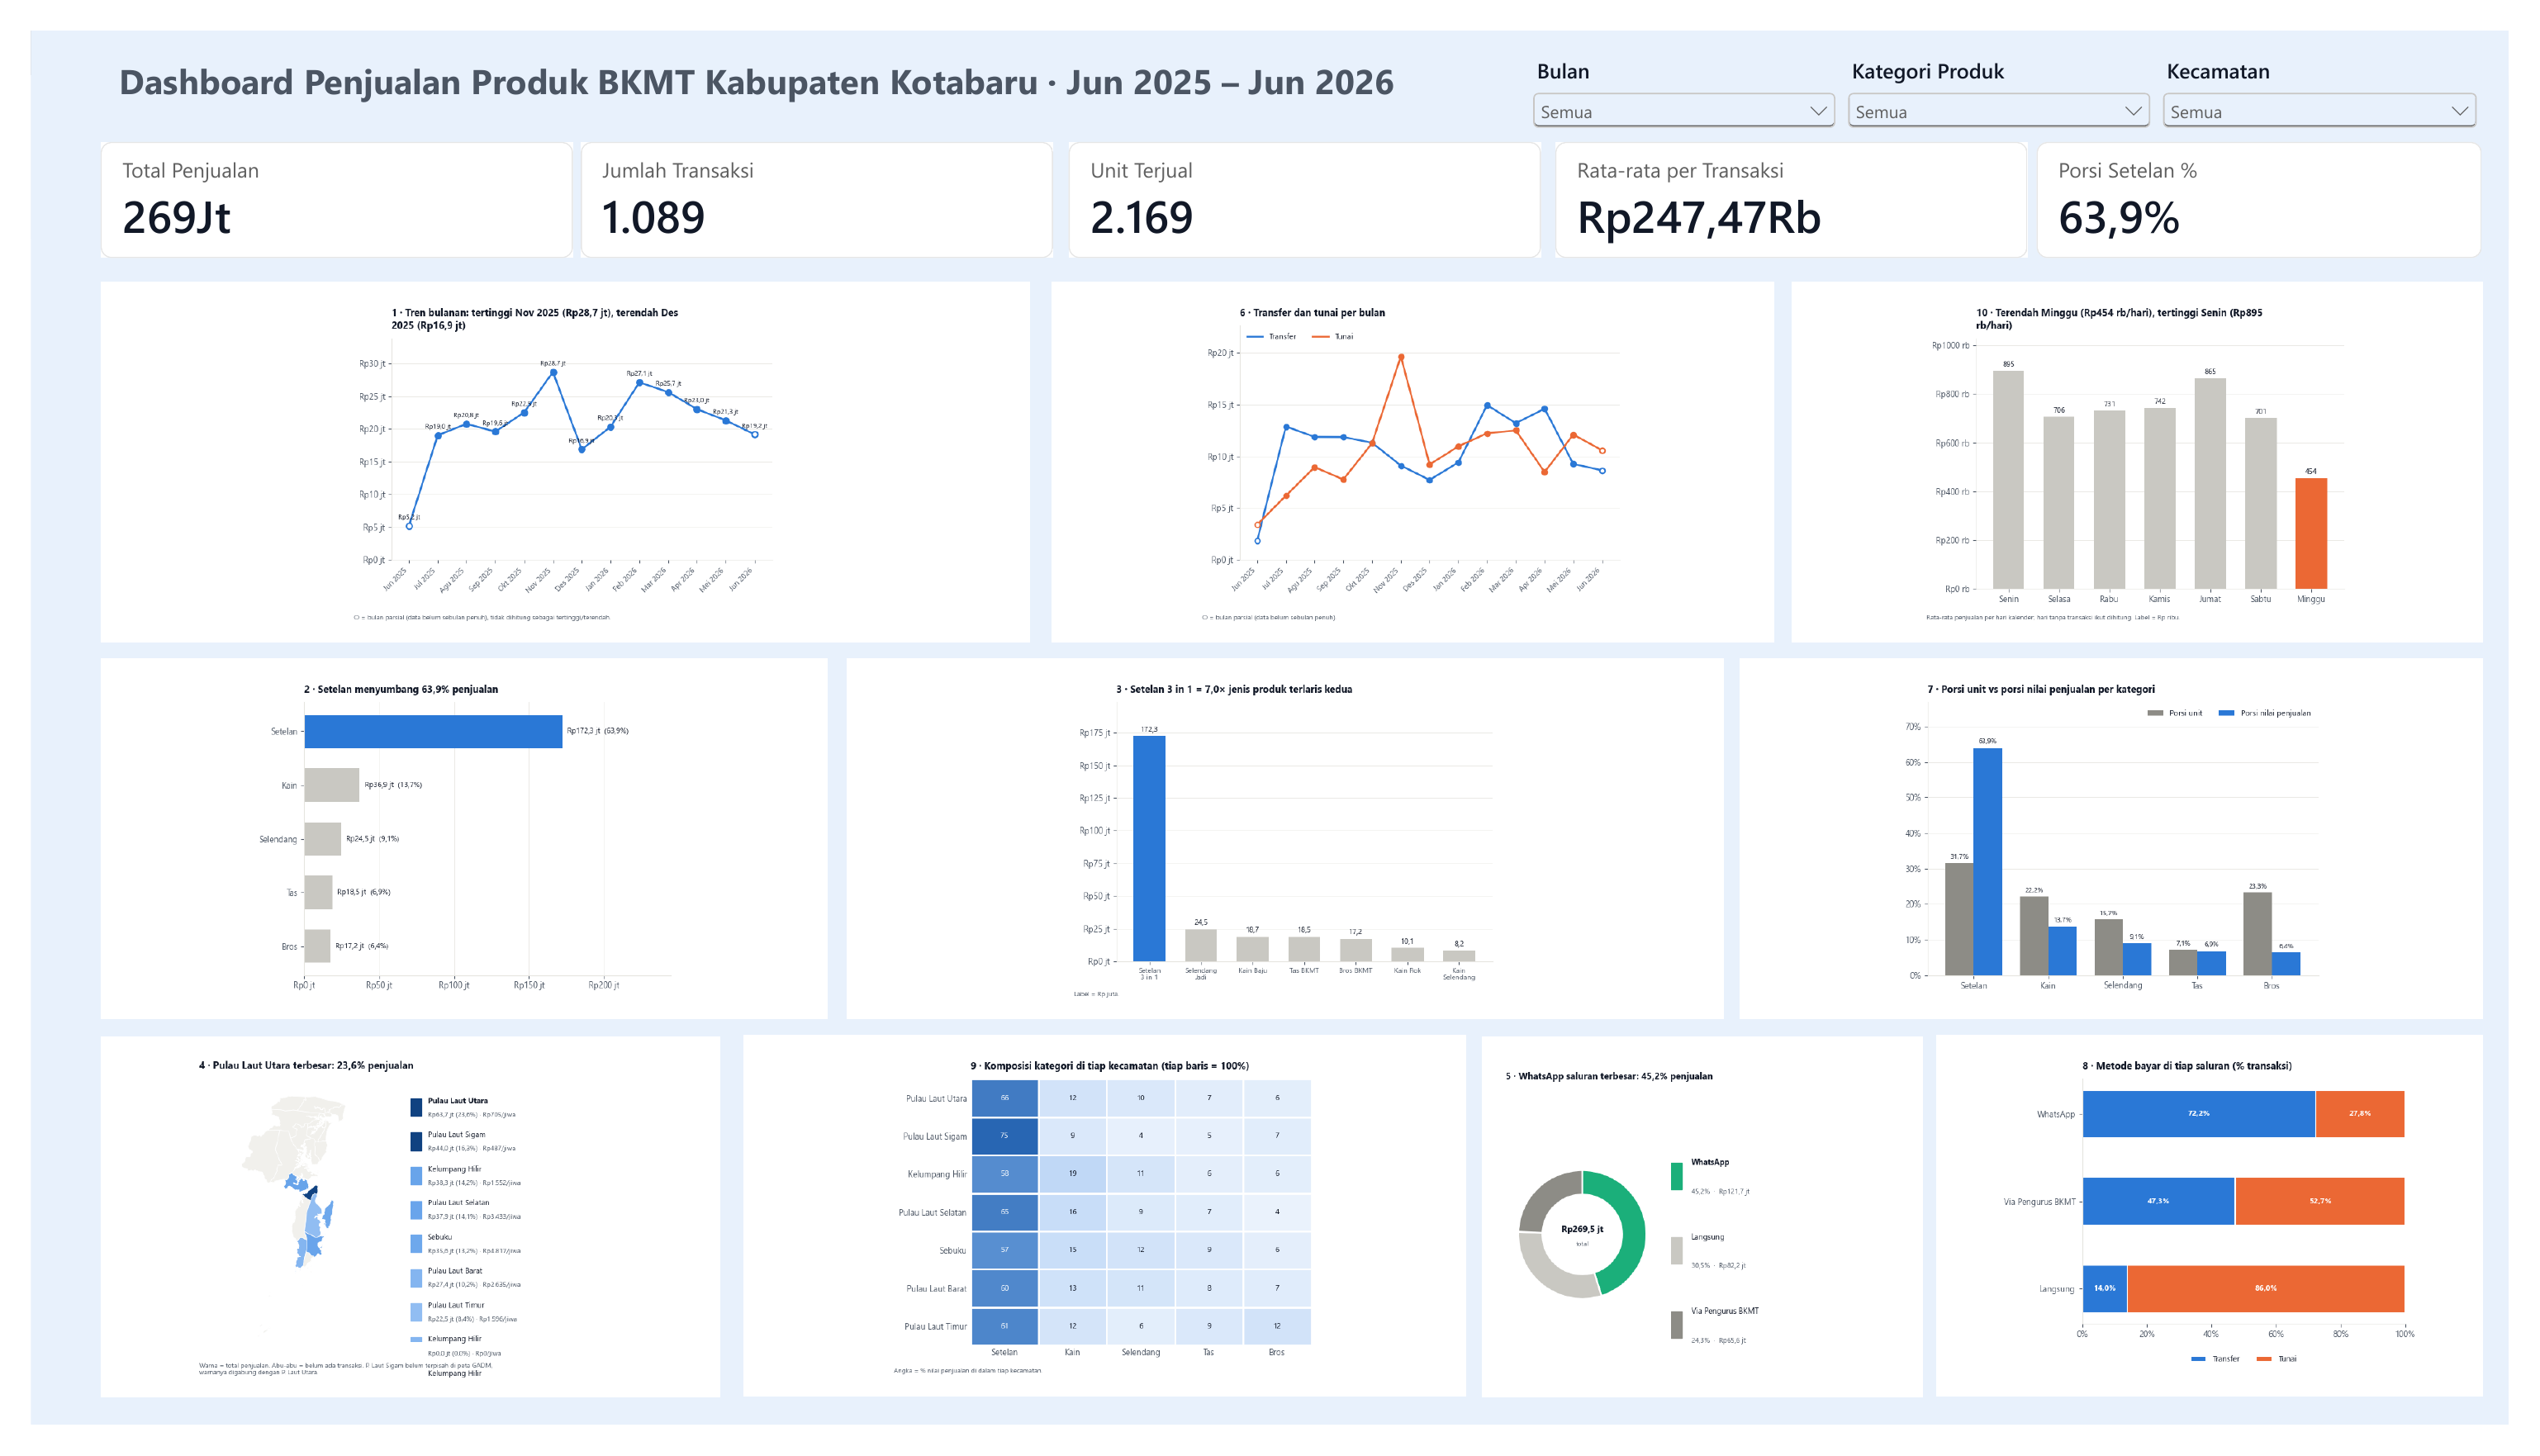

This screenshot's page, from the dashboard's own definition file:
{"tool":"powerbi","page":{"name":"Halaman 1","canvas":[1920,1080],"ordinal":0},"visuals":[{"type":"pythonVisual","fields":{"Values":["Penjualan.Kategori Produk","Penjualan.Total Penjualan"]},"box":[54.3,485.7,562.9,280],"z":0},{"type":"pythonVisual","fields":{"Values":["Kalender.Bulan","Kalender.Bulan Parsial","Penjualan.Total Penjualan"]},"box":[54.3,194.3,720,280],"z":1000},{"type":"pythonVisual","fields":{"Values":["Penjualan.Jenis Produk","Penjualan.Total Penjualan"]},"box":[632,486,680,280],"z":2000},{"type":"pythonVisual","fields":{"Values":["Penjualan.Kecamatan","Kecamatan.Nama Peta","Penjualan.Total Penjualan","Penjualan.Penduduk"]},"box":[54.3,778.6,480,280],"z":3000},{"type":"pythonVisual","fields":{"Values":["Penjualan.Saluran Penjualan","Penjualan.Total Penjualan"]},"box":[1124.3,778.6,341.4,280],"z":4000},{"type":"pythonVisual","fields":{"Values":["Kalender.Bulan","Kalender.Bulan Parsial","Penjualan.Metode Pembayaran","Penjualan.Total Penjualan"]},"box":[791.4,194.3,560,280],"z":5000},{"type":"pythonVisual","fields":{"Values":["Penjualan.Kategori Produk","Penjualan.Unit Terjual","Penjualan.Total Penjualan"]},"box":[1324.3,485.7,576,280],"z":6000},{"type":"pythonVisual","fields":{"Values":["Penjualan.Saluran Penjualan","Penjualan.Metode Pembayaran","Penjualan.Jumlah Transaksi"]},"box":[1476,778,424,280],"z":7000},{"type":"pythonVisual","fields":{"Values":["Kecamatan.Kecamatan","Penjualan.Kategori Produk","Penjualan.Total Penjualan"]},"box":[552,778,560,280],"z":8000},{"type":"pythonVisual","fields":{"Values":["Kalender.Hari","Penjualan.Penjualan per Hari"]},"box":[1364,194,536,280],"z":9000},{"type":"cardVisual","fields":{"Data":["Penjualan.Total Penjualan"]},"box":[54.3,85.7,366,90],"z":10000},{"type":"cardVisual","fields":{"Data":["Kalender.Jumlah Transaksi Teks"]},"box":[425.7,85.7,366,90],"z":11000},{"type":"cardVisual","fields":{"Data":["Kalender.Rata-rata per Transaksi"]},"box":[1181.4,85.7,366,90],"z":12000},{"type":"cardVisual","fields":{"Data":["Kalender.Porsi Setelan %"]},"box":[1554.3,85.7,345.7,90],"z":13000},{"type":"cardVisual","fields":{"Data":["Kalender.Unit Terjual Teks"]},"box":[804.3,85.7,366,90],"z":14000},{"type":"textbox","box":[54.3,20,1017.1,60],"z":15000},{"type":"slicer","fields":{"Values":["Kecamatan.Kecamatan"]},"box":[1647.1,20,252.9,60],"z":16000},{"type":"slicer","fields":{"Values":["Penjualan.Kategori Produk"]},"box":[1402.9,20,244.3,60],"z":17000},{"type":"slicer","fields":{"Values":["Kalender.Bulan"]},"box":[1158.6,20,244.3,60],"z":17001}]}

Visuals, with their boxes on the page's 1920x1080 design canvas (x1, y1, x2, y2). These are canvas units, not pixel positions in the 2540x1456 screenshot, which may show the page scaled, cropped or inside an application window:
pythonVisual - Penjualan.Kategori Produk x Penjualan.Total Penjualan: {"x1": 54, "y1": 486, "x2": 617, "y2": 766}
pythonVisual - Kalender.Bulan x Kalender.Bulan Parsial: {"x1": 54, "y1": 194, "x2": 774, "y2": 474}
pythonVisual - Penjualan.Jenis Produk x Penjualan.Total Penjualan: {"x1": 632, "y1": 486, "x2": 1312, "y2": 766}
pythonVisual - Penjualan.Kecamatan x Kecamatan.Nama Peta: {"x1": 54, "y1": 779, "x2": 534, "y2": 1059}
pythonVisual - Penjualan.Saluran Penjualan x Penjualan.Total Penjualan: {"x1": 1124, "y1": 779, "x2": 1466, "y2": 1059}
pythonVisual - Kalender.Bulan x Kalender.Bulan Parsial: {"x1": 791, "y1": 194, "x2": 1351, "y2": 474}
pythonVisual - Penjualan.Kategori Produk x Penjualan.Unit Terjual: {"x1": 1324, "y1": 486, "x2": 1900, "y2": 766}
pythonVisual - Penjualan.Saluran Penjualan x Penjualan.Metode Pembayaran: {"x1": 1476, "y1": 778, "x2": 1900, "y2": 1058}
pythonVisual - Kecamatan.Kecamatan x Penjualan.Kategori Produk: {"x1": 552, "y1": 778, "x2": 1112, "y2": 1058}
pythonVisual - Kalender.Hari x Penjualan.Penjualan per Hari: {"x1": 1364, "y1": 194, "x2": 1900, "y2": 474}
cardVisual - Penjualan.Total Penjualan: {"x1": 54, "y1": 86, "x2": 420, "y2": 176}
cardVisual - Kalender.Jumlah Transaksi Teks: {"x1": 426, "y1": 86, "x2": 792, "y2": 176}
cardVisual - Kalender.Rata-rata per Transaksi: {"x1": 1181, "y1": 86, "x2": 1547, "y2": 176}
cardVisual - Kalender.Porsi Setelan %: {"x1": 1554, "y1": 86, "x2": 1900, "y2": 176}
cardVisual - Kalender.Unit Terjual Teks: {"x1": 804, "y1": 86, "x2": 1170, "y2": 176}
textbox: {"x1": 54, "y1": 20, "x2": 1071, "y2": 80}
slicer - Kecamatan.Kecamatan: {"x1": 1647, "y1": 20, "x2": 1900, "y2": 80}
slicer - Penjualan.Kategori Produk: {"x1": 1403, "y1": 20, "x2": 1647, "y2": 80}
slicer - Kalender.Bulan: {"x1": 1159, "y1": 20, "x2": 1403, "y2": 80}
